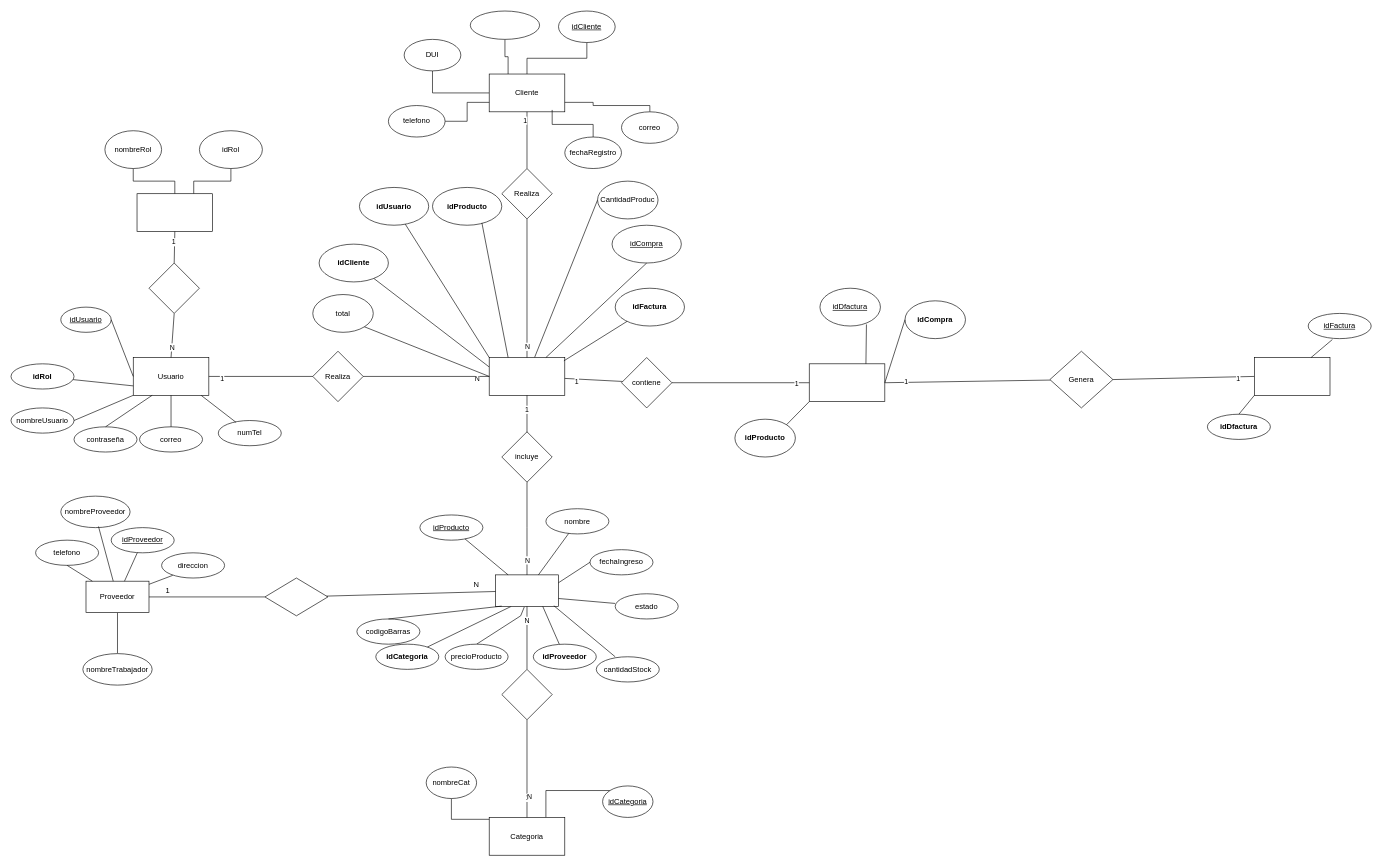
Some shapes in this 1382 by 866 pixel diagram are drawn without their labels. Here are the shapes that lost their labels. From the top down, the centre of each, then its label:
At (x=505, y=24): "nombreCliente".
At (x=174, y=212): "Rol".
At (x=173, y=287): "Tiene".
At (x=527, y=376): "Compra".
At (x=847, y=382): "detalleFactura".
At (x=1292, y=376): "Factura".
At (x=296, y=596): "Suministra".
At (x=526, y=590): "Producto".
At (x=526, y=694): "Pertenece".
